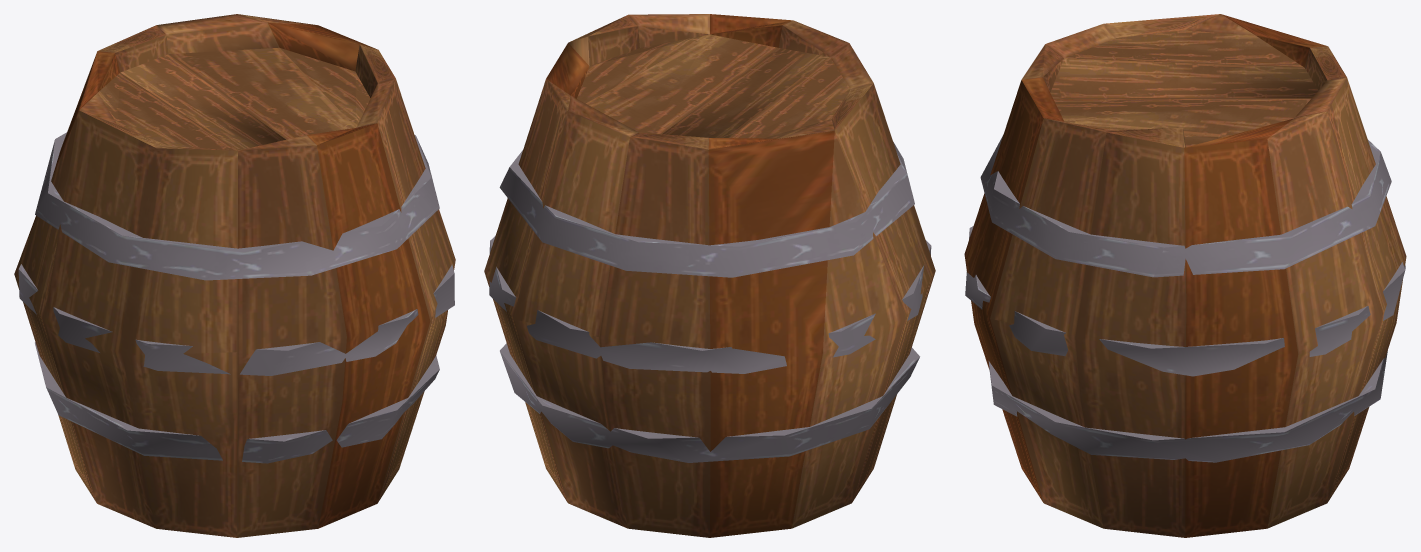
Rendered from keg.lod1.gltf.
The picture shows the model from 3 angles, left to right: view 1: azimuth 30°, elevation 25°; view 2: azimuth 150°, elevation 25°; view 3: azimuth 270°, elevation 25°; orthographic projection.
Visible parts, largest first — view 1: Barrel; view 2: Barrel; view 3: Barrel.
Boxes of the visible parts, x1,y1,x2,y2 form: Barrel: (14, 14, 455, 537); Barrel: (484, 14, 935, 537); Barrel: (964, 14, 1406, 537).
Bounding box in the file's own units: 0.5713 × 0.56 × 0.5593.
2 materials, 2 textured.
